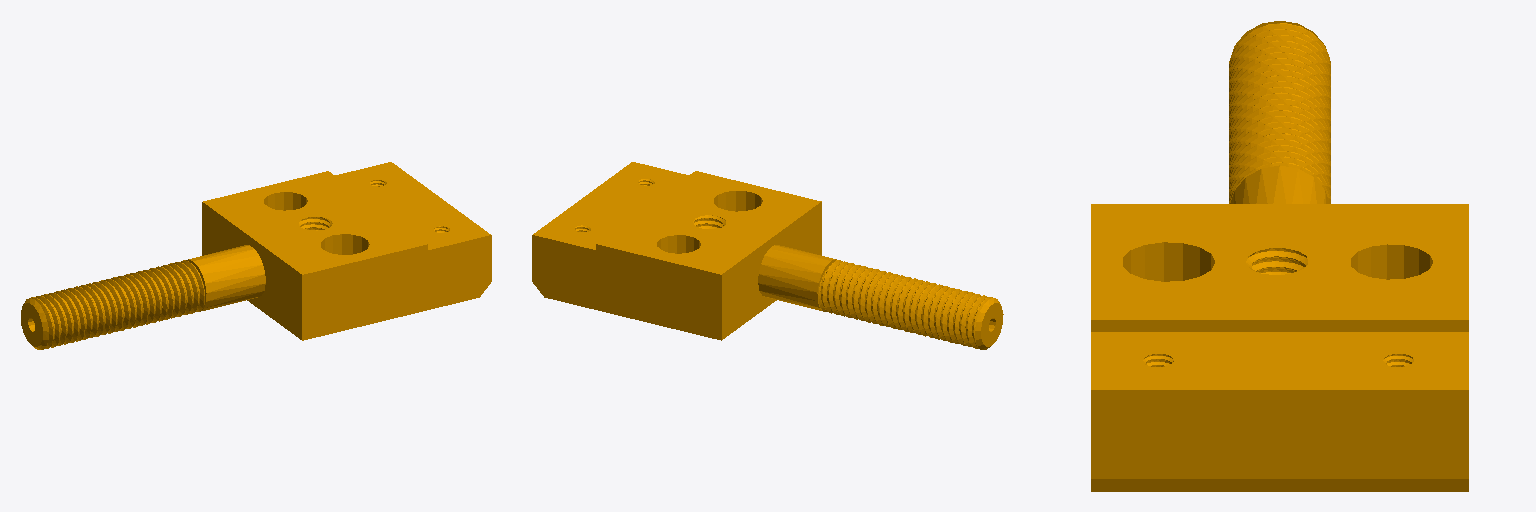
URDF robot description (00320_socket):
<?xml version="1.0"?>
<robot name="00320_socket">
	<link name="00320_socket">
		<visual>
			<geometry>
				<mesh filename="../mesh/00320/asset_socket.obj"/>
			</geometry>
		</visual>
		<collision>
			<geometry>
				<mesh filename="../mesh/00320/asset_socket.obj"/>
			</geometry>
			<sdf resolution="256"/>
		</collision>
	</link>
</robot>

--- Facts derived from the render (not from the file) ---
Views: 3 orthographic renders of the robot side by side, from view 1: azimuth 30°, elevation 25°; view 2: azimuth 150°, elevation 25°; view 3: azimuth 270°, elevation 25°.
Robot: 00320_socket — 1 links, 0 joints (none); root link 00320_socket; default pose: all joints at 0.
Links seen in each view (by area): view 1: 00320_socket; view 2: 00320_socket; view 3: 00320_socket.
Link boxes in pixels (x1,y1,x2,y2): 00320_socket: (21,162,491,349); 00320_socket: (532,162,1003,349); 00320_socket: (1091,21,1468,491).
Size in the robot's own frame: 0.0894 by 0.0378 by 0.0137 metres.
1 mesh visuals loaded from 1 distinct referenced files (1 OBJ).
